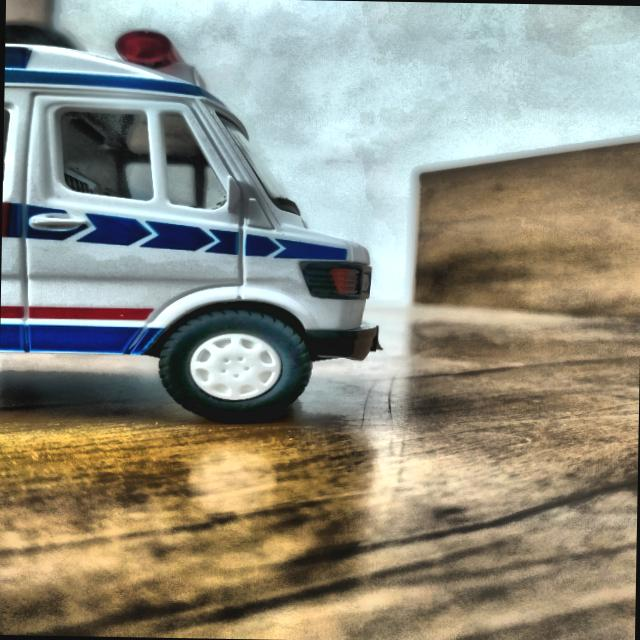Ambulance: (0, 18, 405, 425)
